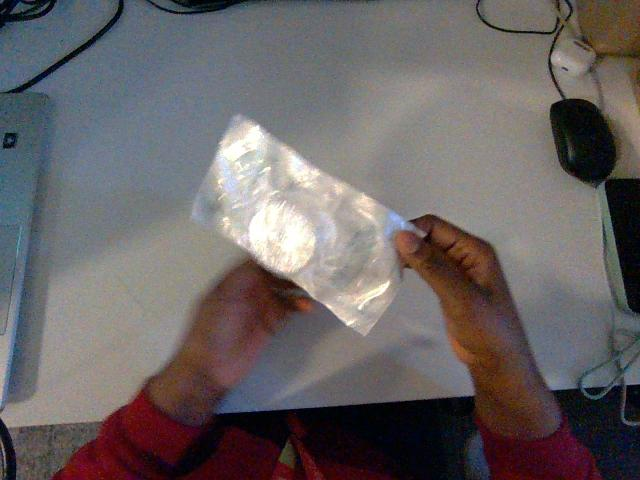gallipot: (192, 116, 418, 334)
